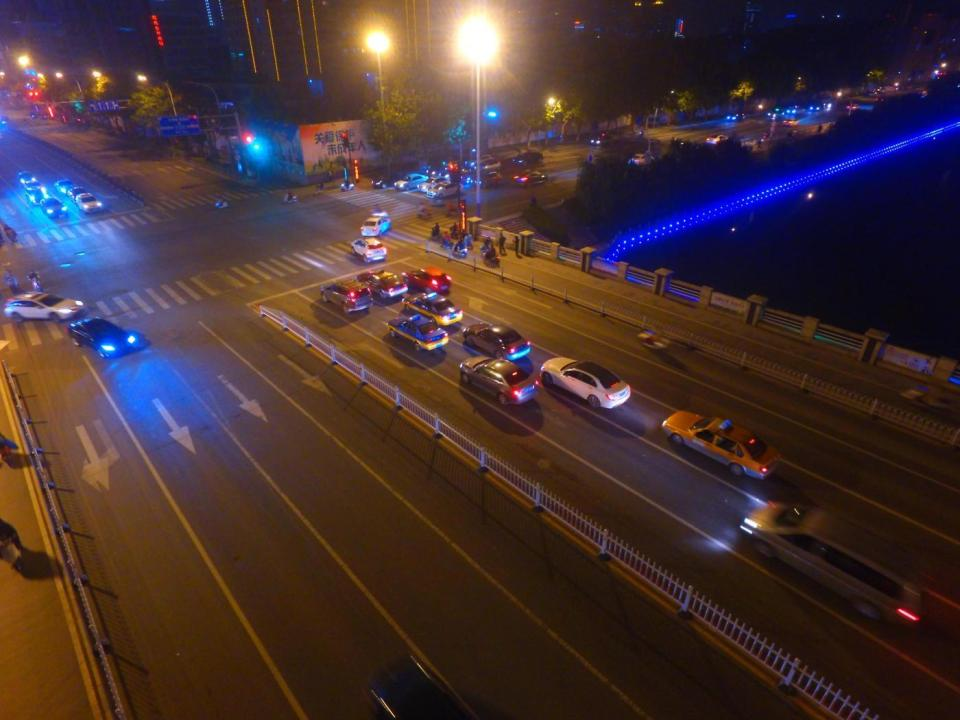car: (661, 409, 784, 480), (538, 354, 632, 408), (458, 354, 538, 404), (64, 316, 138, 358), (462, 320, 532, 360), (2, 290, 84, 321), (387, 314, 450, 350), (402, 292, 463, 327), (318, 278, 374, 315), (356, 268, 407, 300), (402, 264, 454, 292), (352, 234, 387, 261), (359, 213, 392, 238), (426, 180, 463, 199), (393, 173, 428, 192), (467, 169, 503, 187), (513, 170, 548, 187), (372, 172, 408, 188), (76, 191, 102, 213), (416, 175, 447, 192), (39, 198, 67, 216), (511, 151, 545, 164), (464, 152, 491, 168), (24, 186, 45, 206), (24, 178, 46, 196), (474, 158, 500, 173), (68, 186, 88, 204), (54, 178, 74, 195), (16, 170, 36, 187), (628, 152, 652, 166), (590, 134, 614, 144), (482, 255, 499, 268), (452, 246, 468, 257), (457, 240, 474, 250), (430, 228, 442, 241), (282, 195, 298, 203), (340, 183, 356, 191), (213, 202, 230, 208), (480, 246, 495, 252), (449, 228, 458, 238)
van: (739, 497, 927, 628)
